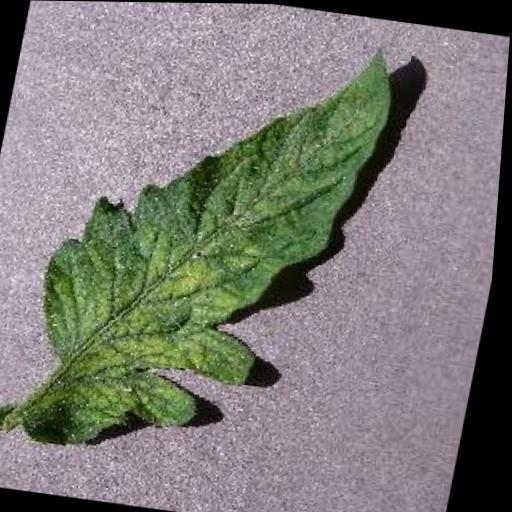Mosaic Virus: (10, 7, 408, 485)
